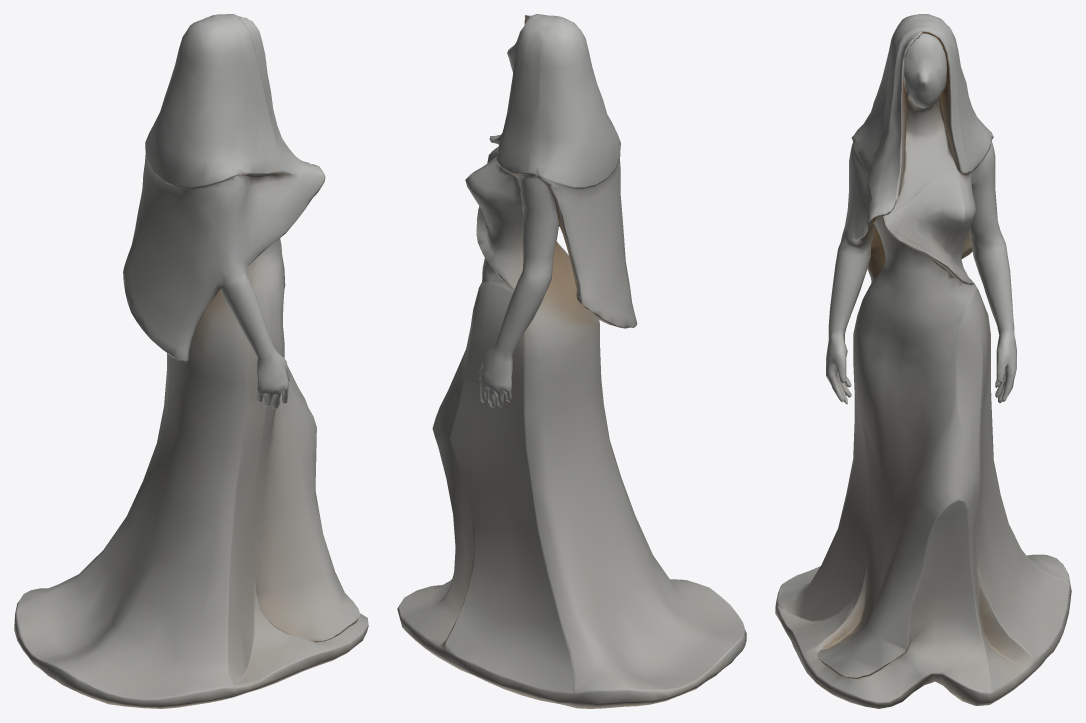
The model's file is min13ta.glb.
3 renders of one model, left to right at view 1: azimuth 30°, elevation 25°; view 2: azimuth 150°, elevation 25°; view 3: azimuth 270°, elevation 25°, orthographic. The views are drawn at different scales.
Parts seen in each view (by area): view 1: tripo_node_53ba6889-4384-4563-a1e6-c3bc15da051f; view 2: tripo_node_53ba6889-4384-4563-a1e6-c3bc15da051f; view 3: tripo_node_53ba6889-4384-4563-a1e6-c3bc15da051f.
Part boxes in pixels (<box>): tripo_node_53ba6889-4384-4563-a1e6-c3bc15da051f: <box>14,14,368,708</box>; tripo_node_53ba6889-4384-4563-a1e6-c3bc15da051f: <box>397,14,746,708</box>; tripo_node_53ba6889-4384-4563-a1e6-c3bc15da051f: <box>775,14,1071,708</box>.
Bounding box in the file's own units: 0.502 × 0.998 × 0.4238.
1 material, 1 textured.
